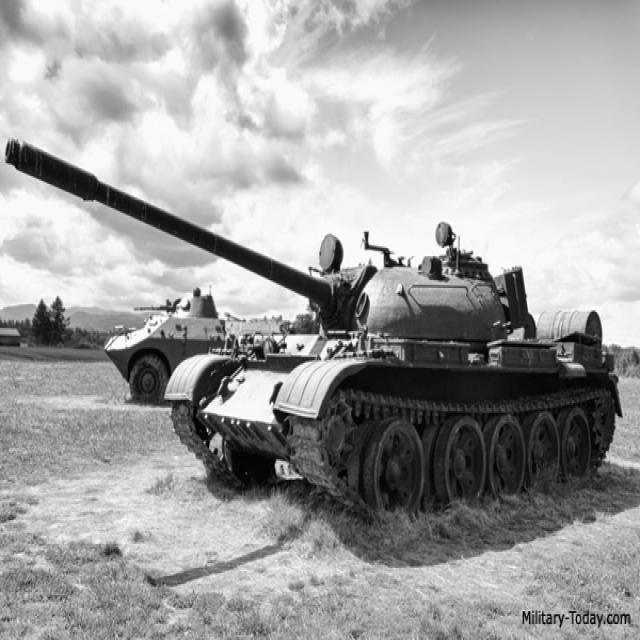Tank: (5, 121, 627, 534)
